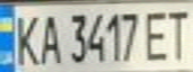1: (103, 8, 124, 62)
3: (63, 9, 87, 64)
4: (84, 8, 106, 63)
7: (118, 8, 142, 62)
A: (36, 9, 63, 65)
E: (142, 7, 175, 62)
K: (9, 9, 42, 68)
T: (163, 6, 193, 62)
